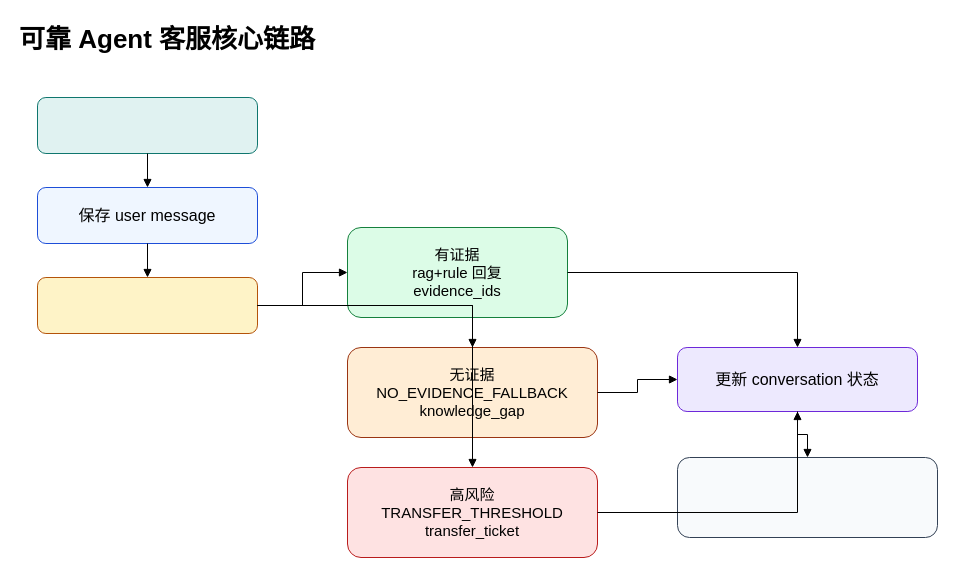
Some shapes in this 955 by 575 pixel diagram are drawn without their labels. The box of each missing label's shape, as (x1, y1, x2, y2) in pixels:
SearchKnowledge(query): (36, 276, 258, 334)
控制台展示 证据 / 缺口 / 规则 / 工单: (676, 456, 938, 538)
用户消息: (36, 96, 258, 154)
